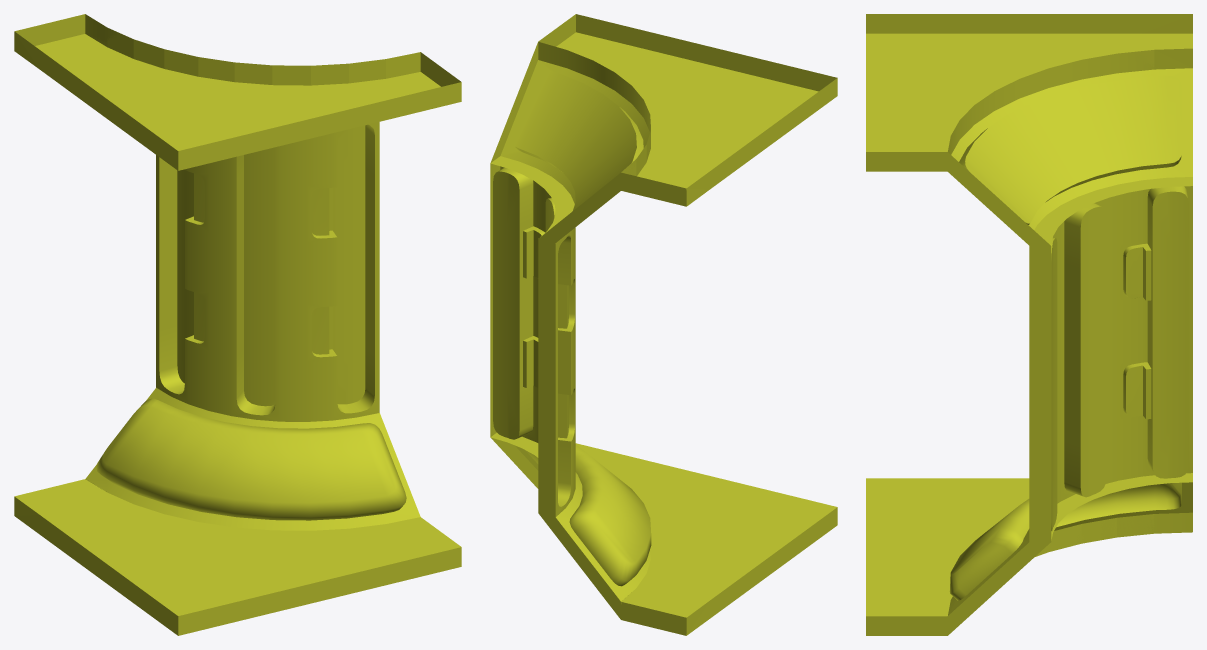
File: CBig_Wall_ConerOut_A.FBX
3 views of the same model, side by side, from view 1: azimuth 30°, elevation 25°; view 2: azimuth 150°, elevation 25°; view 3: azimuth 270°, elevation 25° (orthographic). The views are drawn at different scales.
Parts seen in each view (by area): view 1: CBig_Wall_ConerOut_A; view 2: CBig_Wall_ConerOut_A; view 3: CBig_Wall_ConerOut_A.
Part boxes in pixels (x1,y1,x2,y2): CBig_Wall_ConerOut_A: (14, 14, 461, 635); CBig_Wall_ConerOut_A: (490, 14, 837, 635); CBig_Wall_ConerOut_A: (866, 14, 1192, 635).
Size of the model in its own units: 300 by 490 by 300.
